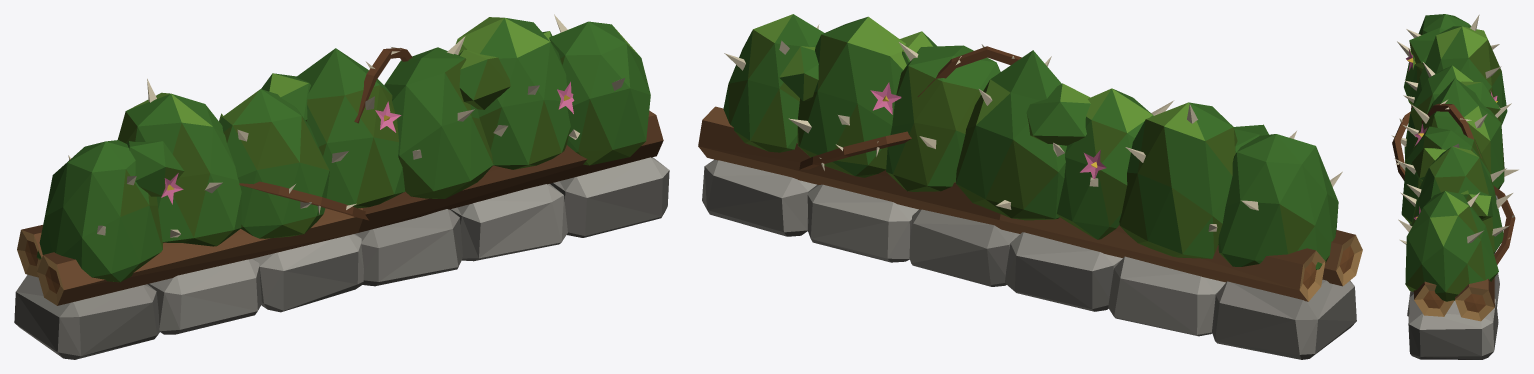
Rendered from barricade_thorn.glb.
The picture shows the model from 3 angles, left to right: view 1: azimuth 30°, elevation 25°; view 2: azimuth 150°, elevation 25°; view 3: azimuth 270°, elevation 25°; orthographic projection. The views are drawn at different scales.
Visible parts, largest first — view 1: barricade_thorn; view 2: barricade_thorn; view 3: barricade_thorn.
Part boxes in pixels (x1=…): barricade_thorn: x1=14, y1=14, x2=669, y2=359; barricade_thorn: x1=698, y1=14, x2=1362, y2=359; barricade_thorn: x1=1391, y1=14, x2=1518, y2=359.
Bounding box in the file's own units: 3.03 × 1.05 × 0.7222.
